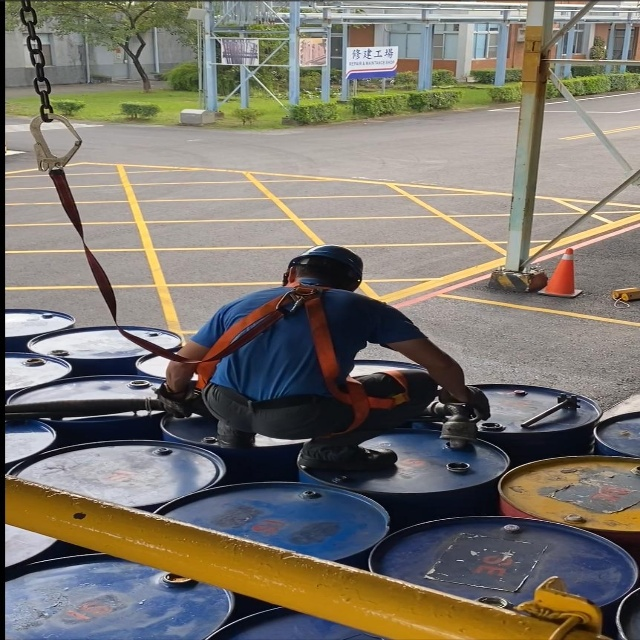Arnes_seguridad: (195, 283, 409, 446)
